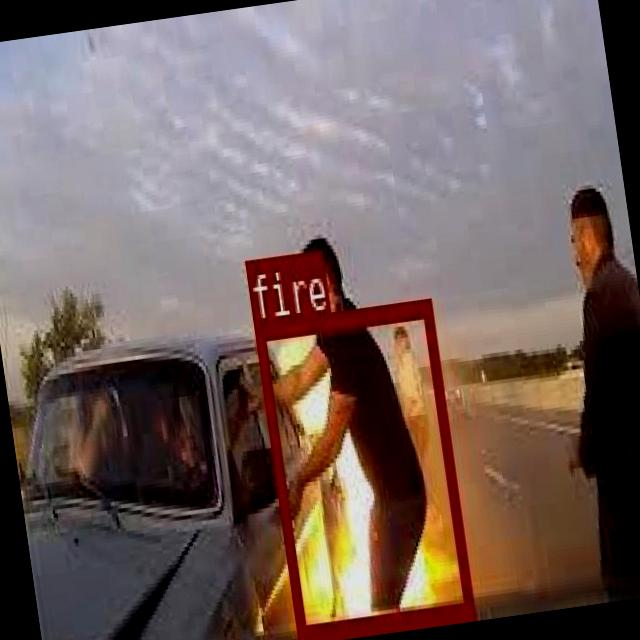fire: (252, 298, 472, 639)
